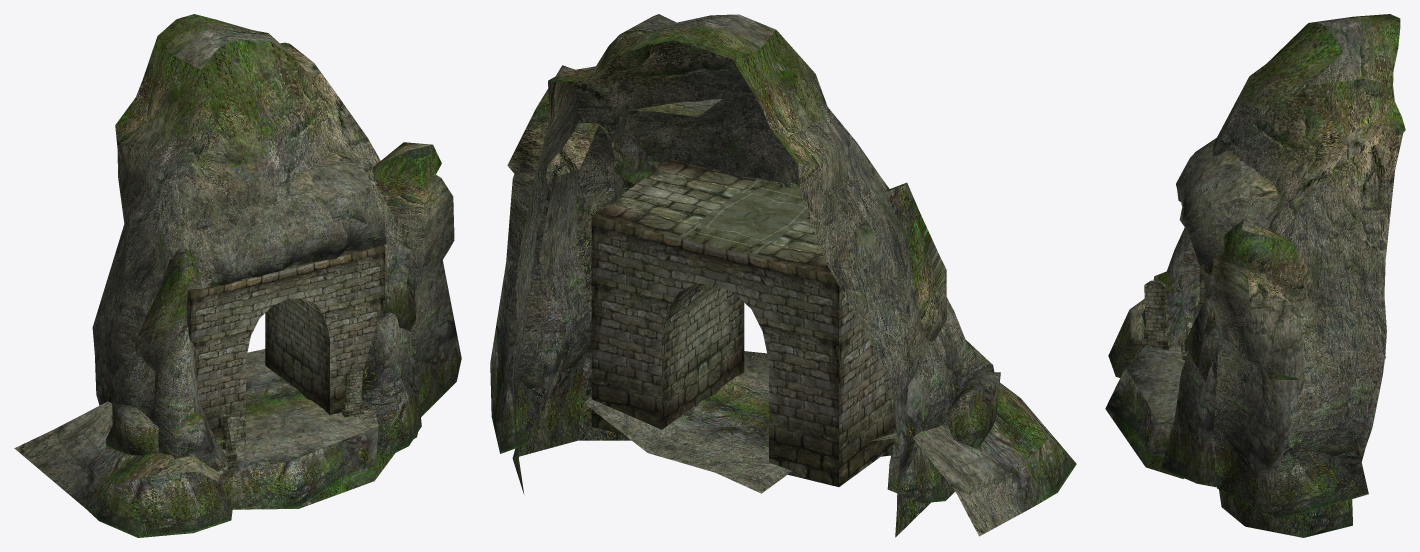
Rendered from bigmap_shandong01.FBX.
3 views of the same model, side by side, from view 1: azimuth 30°, elevation 25°; view 2: azimuth 150°, elevation 25°; view 3: azimuth 270°, elevation 25° (orthographic). The views are drawn at different scales.
Visible parts, largest first — view 1: shaoldamd04, shaoldamd01; view 2: shaoldamd04, shaoldamd01; view 3: shaoldamd04, shaoldamd01.
Boxes of the visible parts, x1,y1,x2,y2 form: shaoldamd04: (14, 14, 461, 537); shaoldamd01: (186, 244, 385, 469); shaoldamd04: (490, 14, 1076, 537); shaoldamd01: (591, 159, 896, 486); shaoldamd04: (1105, 14, 1405, 537); shaoldamd01: (1142, 266, 1204, 359).
Bounding box in the file's own units: 5.83 × 3.48 × 5.49.
